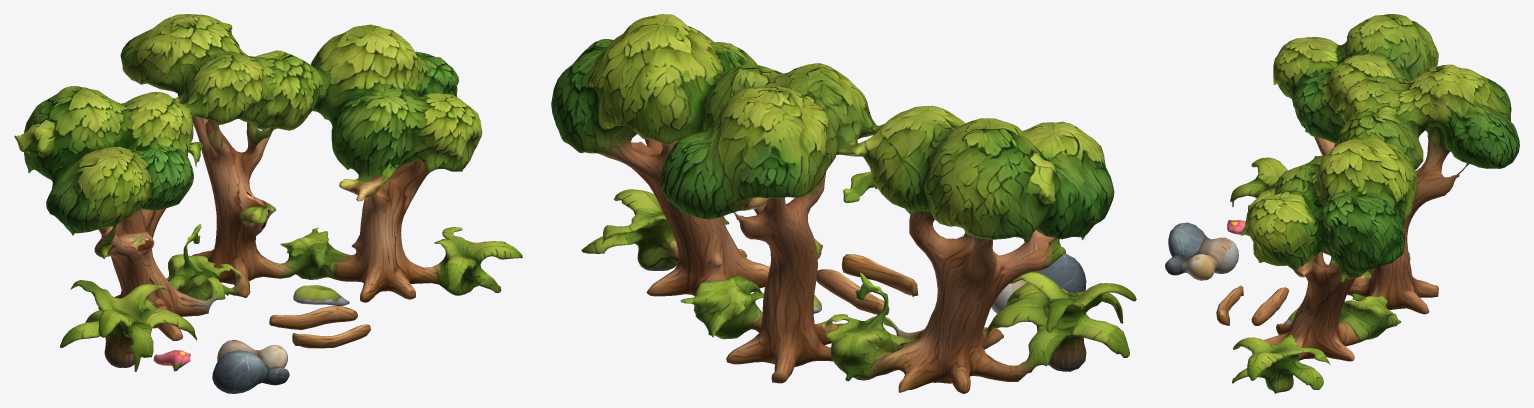
Rendered from terrain-forest-hyper3d.glb.
3 views of the same model, side by side, from view 1: azimuth 30°, elevation 25°; view 2: azimuth 150°, elevation 25°; view 3: azimuth 270°, elevation 25° (orthographic). The views are drawn at different scales.
Parts seen in each view (by area): view 1: model; view 2: model; view 3: model.
Boxes of the visible parts, left/top/right/bottom form: model: left=14, top=14, right=522, bottom=393; model: left=551, top=14, right=1136, bottom=393; model: left=1165, top=14, right=1519, bottom=393.
Size of the model in its own units: 1.83 by 1 by 1.36.
Materials: 1 (1 with a texture image).
